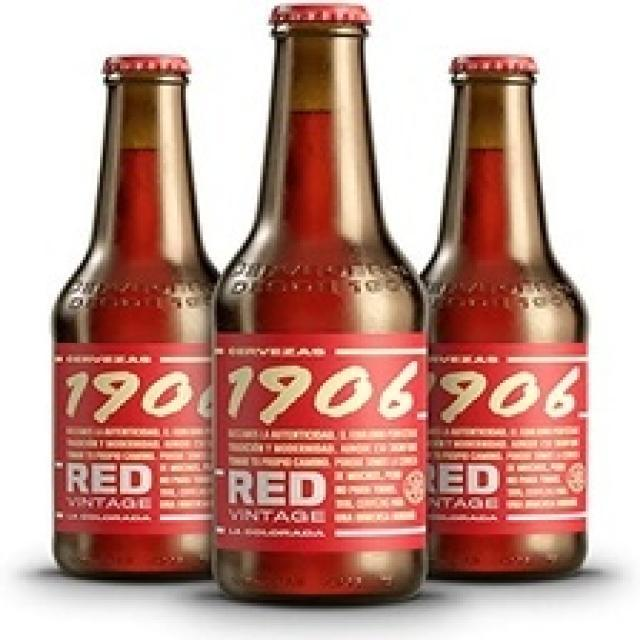Glass: (208, 29, 428, 606), (417, 76, 589, 584), (51, 76, 222, 586)
